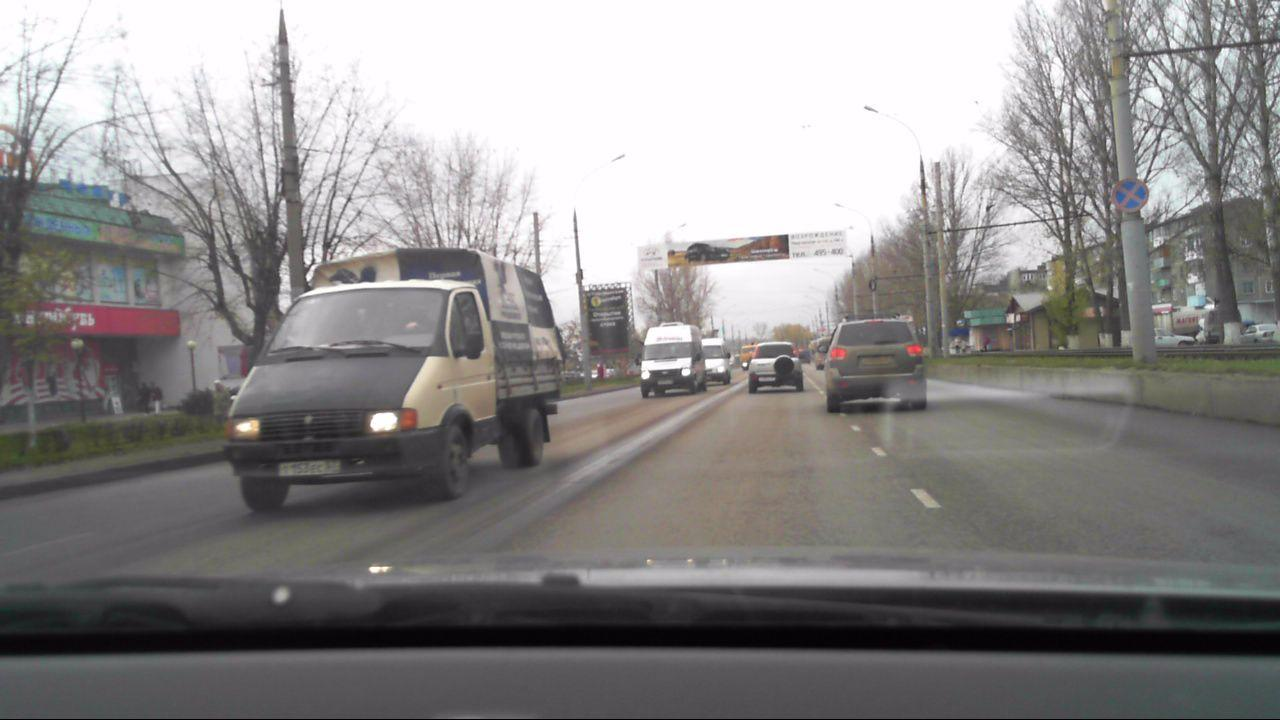3_27: (1111, 177, 1152, 216)
